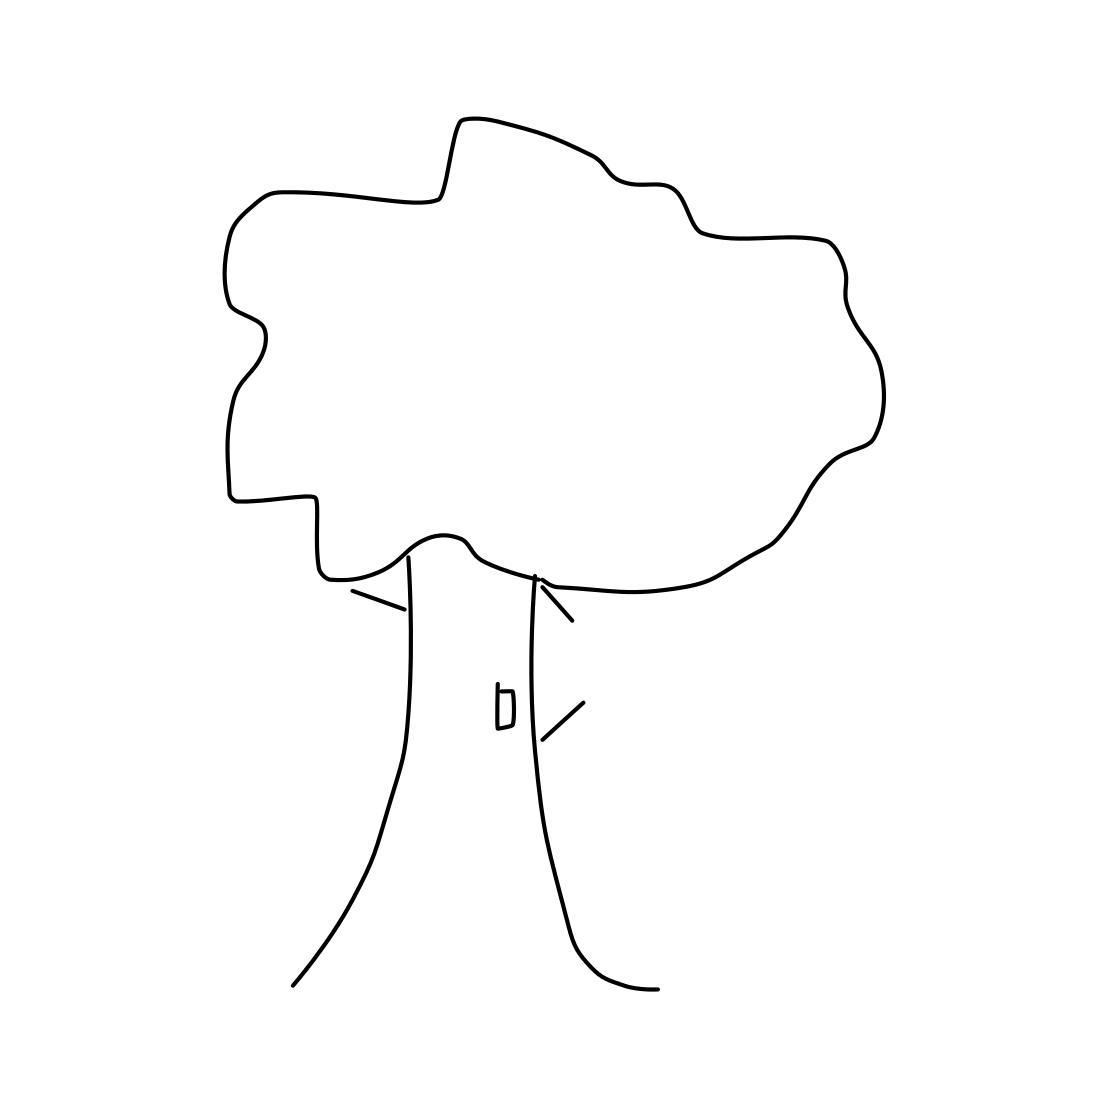Tree: (164, 74, 928, 1000)
